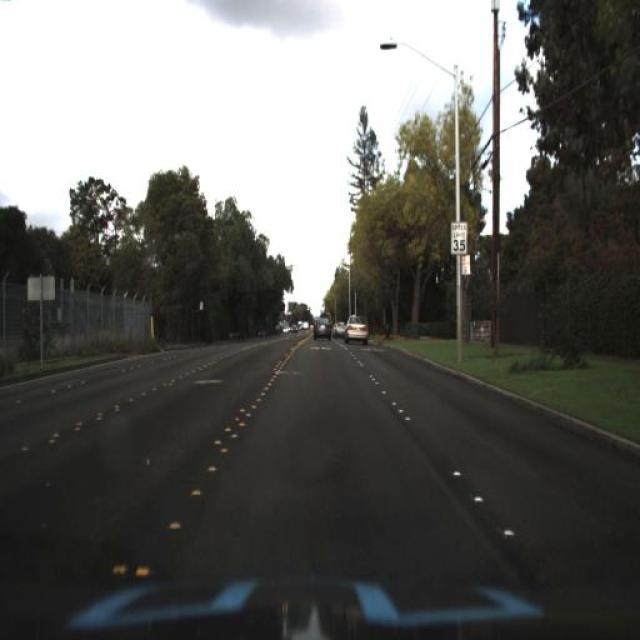car: (342, 314, 373, 348), (308, 310, 334, 344)
